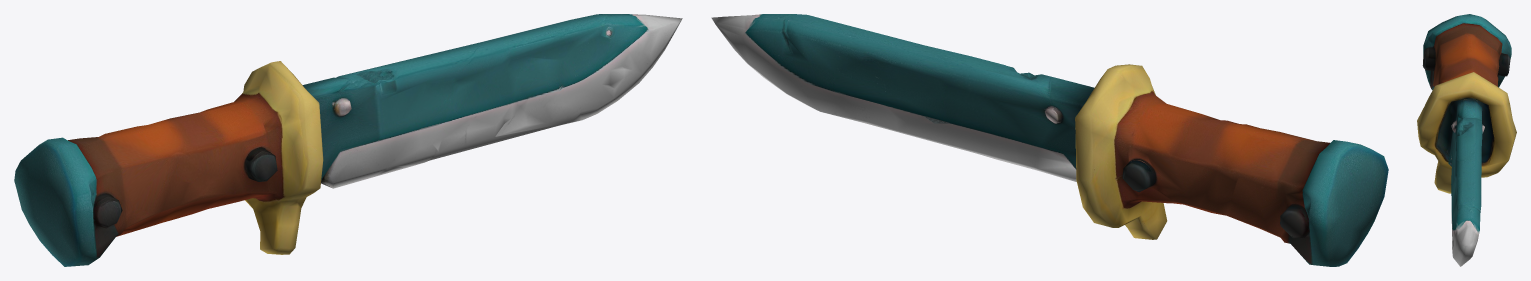
Rendered from weapon_knife_1500.glb.
3 views of the same model, side by side, from view 1: azimuth 30°, elevation 25°; view 2: azimuth 150°, elevation 25°; view 3: azimuth 270°, elevation 25° (orthographic). The views are drawn at different scales.
Visible parts, largest first — view 1: tripo_node_2dbedba4-6e6b-4f46-bf57-e33eaa502112; view 2: tripo_node_2dbedba4-6e6b-4f46-bf57-e33eaa502112; view 3: tripo_node_2dbedba4-6e6b-4f46-bf57-e33eaa502112.
Boxes of the visible parts, x1,y1,x2,y2 form: tripo_node_2dbedba4-6e6b-4f46-bf57-e33eaa502112: (14, 14, 682, 266); tripo_node_2dbedba4-6e6b-4f46-bf57-e33eaa502112: (711, 14, 1388, 266); tripo_node_2dbedba4-6e6b-4f46-bf57-e33eaa502112: (1417, 14, 1516, 266).
Bounding box in the file's own units: 0.9802 × 0.2604 × 0.1896.
1 material, 1 textured.
